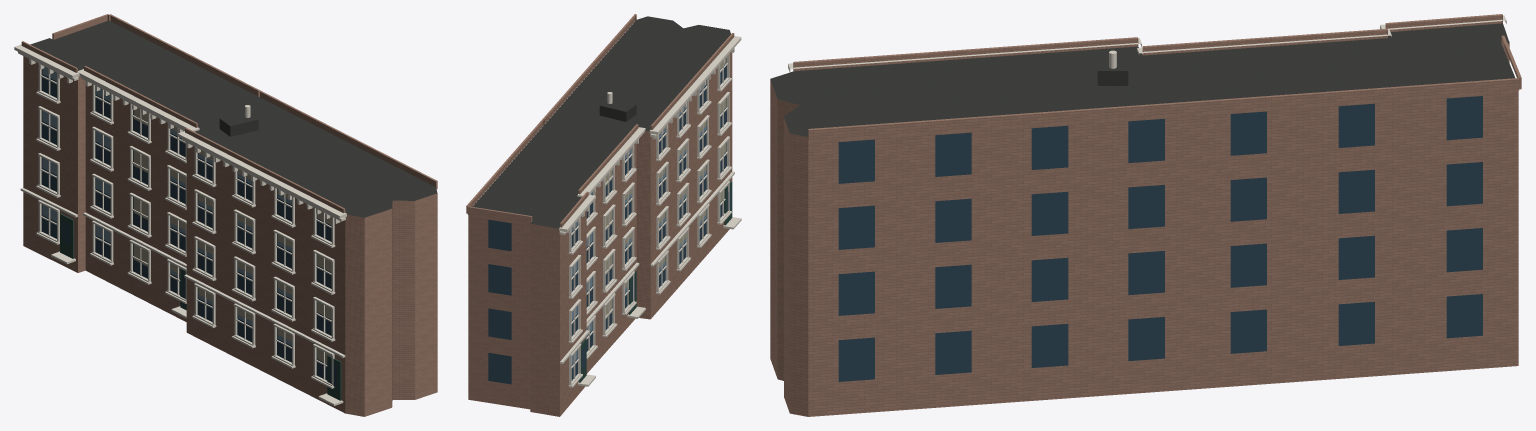
3 views of the same model, side by side, from view 1: azimuth 30°, elevation 25°; view 2: azimuth 150°, elevation 25°; view 3: azimuth 270°, elevation 25° (orthographic). The views are drawn at different scales.
Parts seen in each view (by area): view 1: Footprint 0 / surface 2, Cornices and window frames, Footprint 0 / surface 1, Inset glazing, Facade bay volumes, Interior blind variation, Sky reflection panels, Storefronts and doors; view 2: Footprint 0 / surface 2, Footprint 0 / surface 1, Cornices and window frames, Inset glazing, Facade bay volumes, Interior blind variation, Sky reflection panels, Storefronts and doors, Inferred rooftop service enclosure / surface 6, Inferred rooftop service enclosure / surface 3; view 3: Footprint 0 / surface 2, Inset glazing, Footprint 0 / surface 1, Facade bay volumes, Cornices and window frames.
Part boxes in pixels (x1,y1,x2,y2): Footprint 0 / surface 2: (23,56,437,416); Cornices and window frames: (14,44,346,405); Footprint 0 / surface 1: (30,20,437,217); Inset glazing: (41,69,337,386); Facade bay volumes: (21,14,437,213); Interior blind variation: (133,107,331,363); Sky reflection panels: (42,66,317,358); Storefronts and doors: (60,213,341,400); Footprint 0 / surface 2: (468,52,732,416); Footprint 0 / surface 1: (472,16,730,228); Cornices and window frames: (559,36,741,387); Inset glazing: (488,58,730,384); Facade bay volumes: (466,14,734,227); Interior blind variation: (605,58,726,318); Sky reflection panels: (571,82,706,364); Storefronts and doors: (579,181,732,382); Inferred rooftop service enclosure / surface 6: (599,105,626,121); Inferred rooftop service enclosure / surface 3: (600,99,635,111); Footprint 0 / surface 2: (770,43,1518,416); Inset glazing: (838,96,1482,381); Footprint 0 / surface 1: (770,23,1515,136); Facade bay volumes: (793,14,1521,141); Cornices and window frames: (788,15,1506,71).
Bounding box in the file's own units: 11.23 × 13.44 × 29.53.
